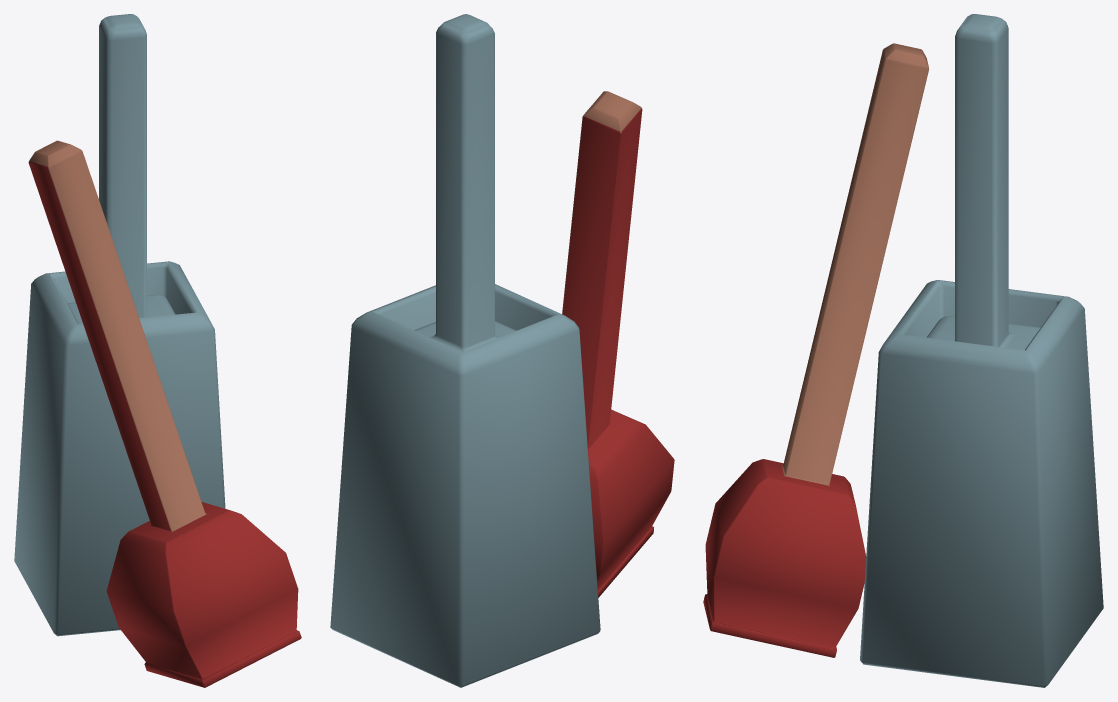
Rendered from Plunger and toiletbrush.fbx.
The picture shows the model from 3 angles, left to right: view 1: azimuth 30°, elevation 25°; view 2: azimuth 150°, elevation 25°; view 3: azimuth 270°, elevation 25°; orthographic projection. The views are drawn at different scales.
Visible parts, largest first — view 1: Plunger, Toilet_brush_holder, Toilet_brush; view 2: Toilet_brush_holder, Plunger, Toilet_brush; view 3: Toilet_brush_holder, Plunger, Toilet_brush.
Boxes of the visible parts, x1=… form: Plunger: x1=28, y1=140, x2=301, y2=687; Toilet_brush_holder: x1=14, y1=261, x2=225, y2=636; Toilet_brush: x1=67, y1=14, x2=175, y2=323; Toilet_brush_holder: x1=330, y1=284, x2=600, y2=687; Plunger: x1=562, y1=91, x2=674, y2=597; Toilet_brush: x1=414, y1=14, x2=516, y2=352; Toilet_brush_holder: x1=860, y1=280, x2=1103, y2=687; Plunger: x1=703, y1=43, x2=928, y2=657; Toilet_brush: x1=927, y1=14, x2=1040, y2=350.
Size of the model in its own units: 38.52 by 99.19 by 56.71.
